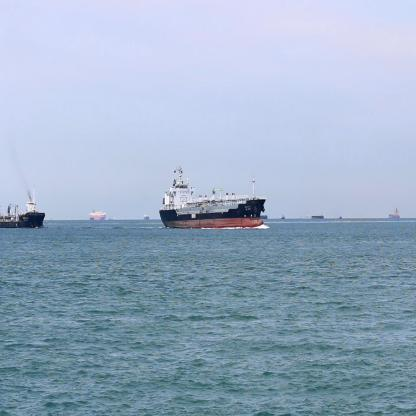Container Ship: (158, 165, 267, 229), (1, 182, 46, 230)
